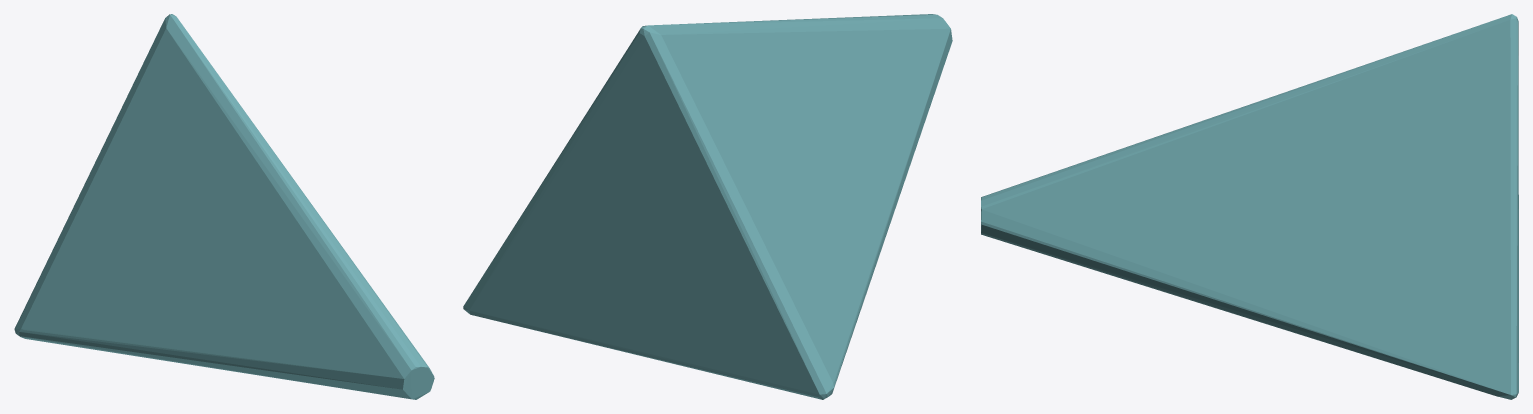
The model's file is sign_wetFloor_b02.glb.
3 views of the same model, side by side, from view 1: azimuth 30°, elevation 25°; view 2: azimuth 150°, elevation 25°; view 3: azimuth 270°, elevation 25° (orthographic). The views are drawn at different scales.
Visible parts, largest first — view 1: geometry_0; view 2: geometry_0; view 3: geometry_0.
Part boxes in pixels (x1,y1,x2,y2): geometry_0: (14,14,434,399); geometry_0: (463,14,952,399); geometry_0: (981,14,1518,399).
Size of the model in its own units: 0.3463 by 0.3018 by 0.4799.
